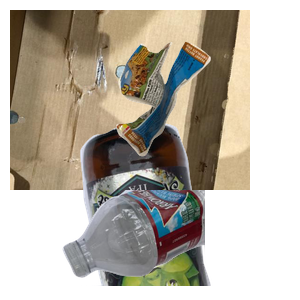cardboard: (10, 10, 250, 190)
glass: (78, 120, 281, 300)
plastic: (60, 190, 300, 280)
trash: (114, 39, 300, 188)
